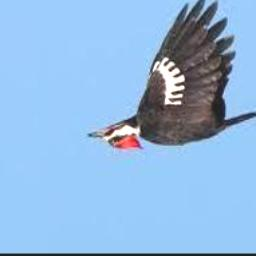Woodpecker: (90, 0, 256, 151)
